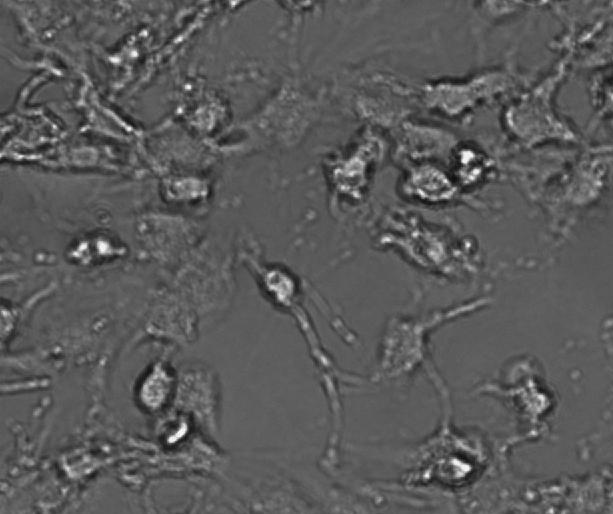Dead: (401, 423, 492, 489), (246, 254, 313, 324), (61, 227, 134, 271), (451, 142, 501, 191), (155, 410, 203, 454)
